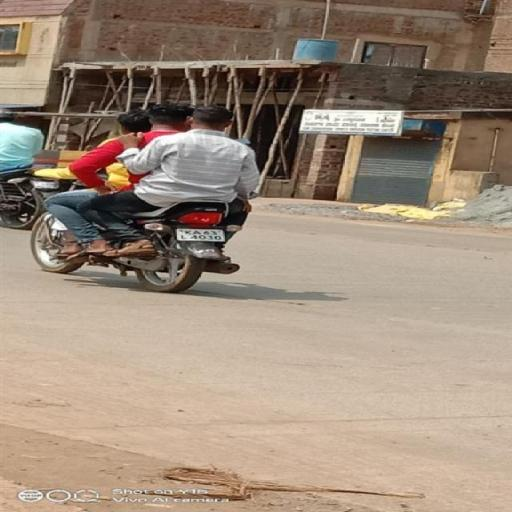tripple riding: (28, 100, 267, 200)
